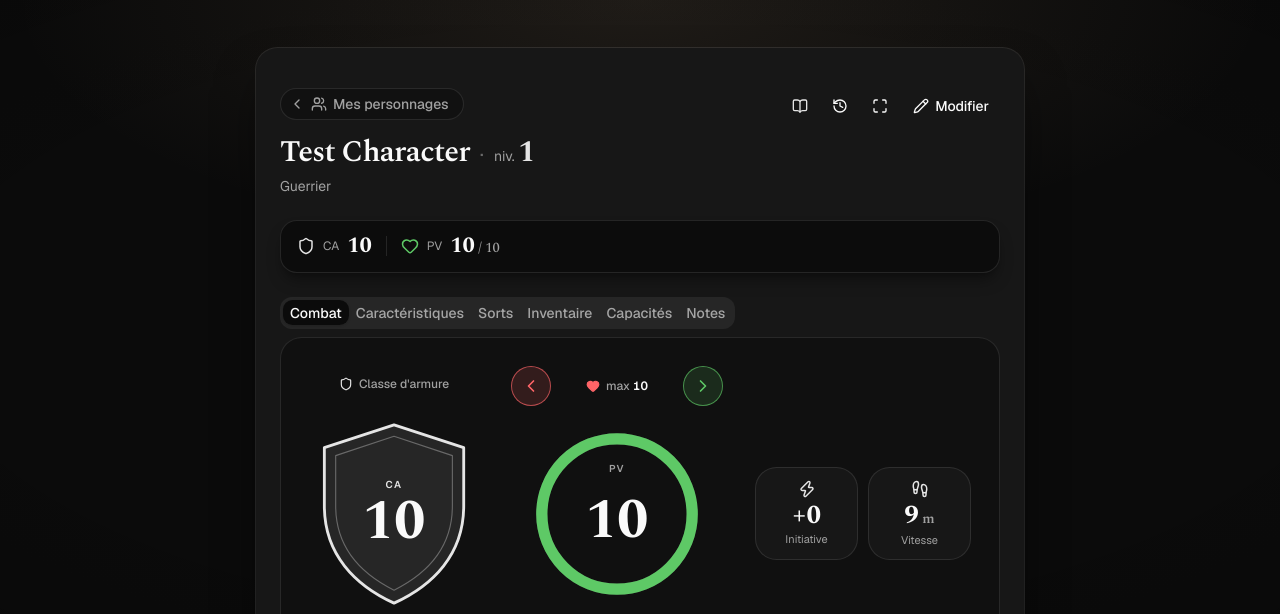
it: SpellsViewTab (via CharacterPlay) › filters the list by domain using the domain chips
The width and height of the screenshot is (1280, 614).
Expected: the heading "Test Character" is shown, [280, 134, 470, 170]
Click the tab "Sorts".
click(496, 313)  # box [471, 300, 520, 325]
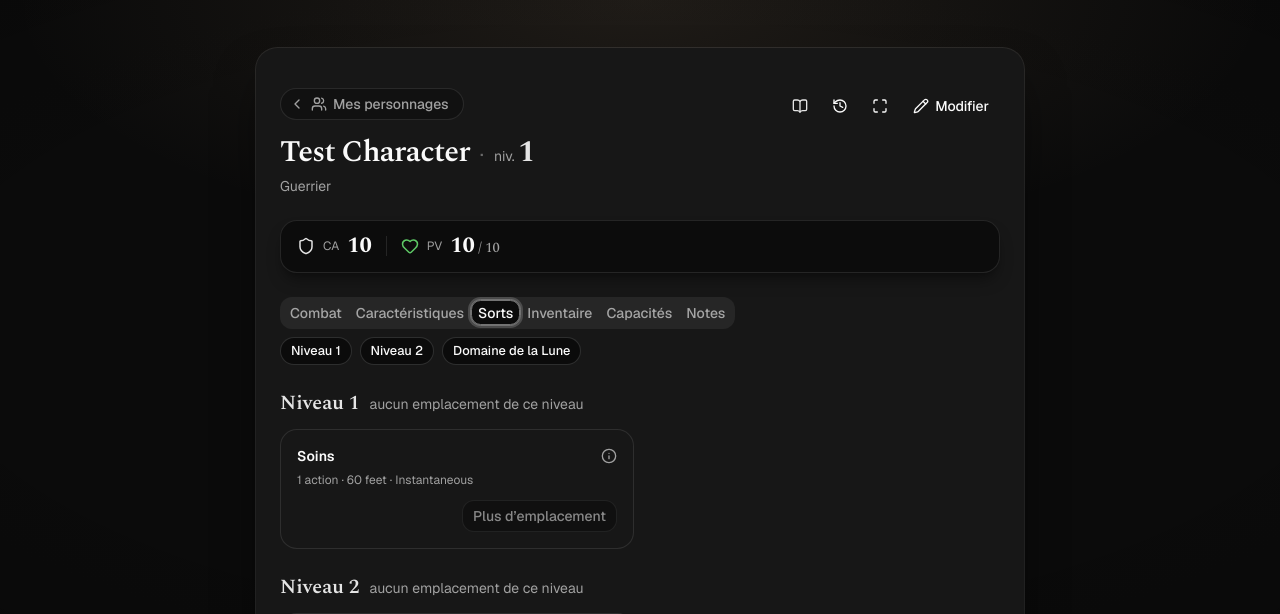
Expected: the text "Soins" is shown, [297, 446, 335, 466]
Click the button "Domaine de la Lune".
click(512, 351)  # box [442, 337, 581, 365]
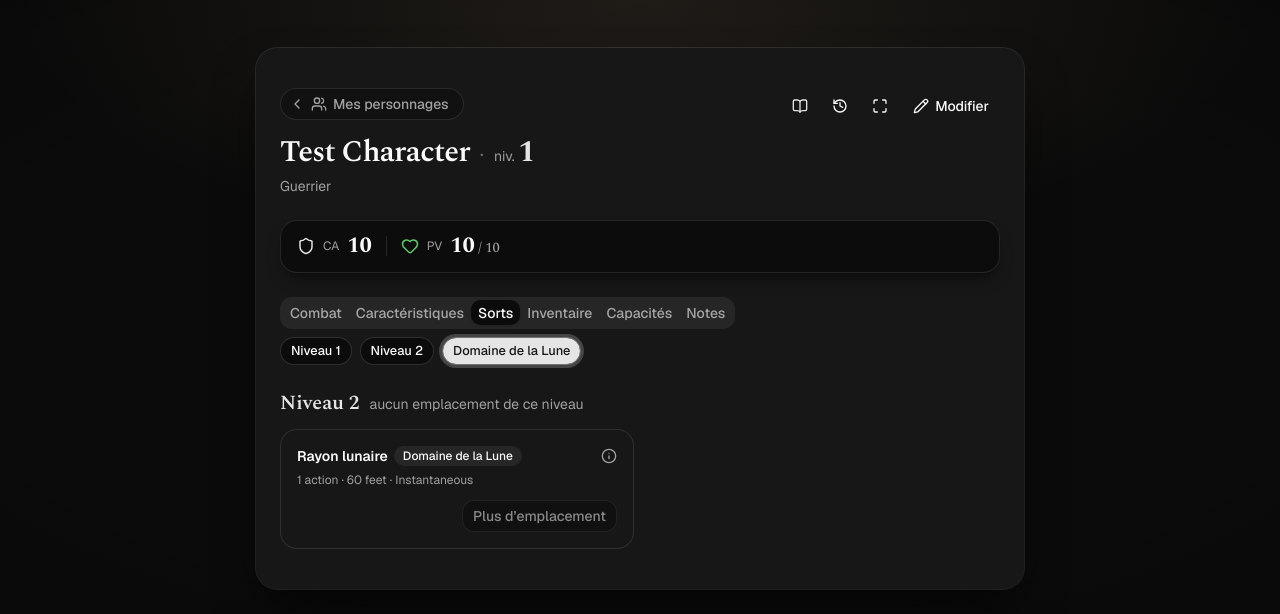
Expected: the text "Rayon lunaire" is shown, [297, 446, 388, 466]
Expected: the text "Soins" is gone
